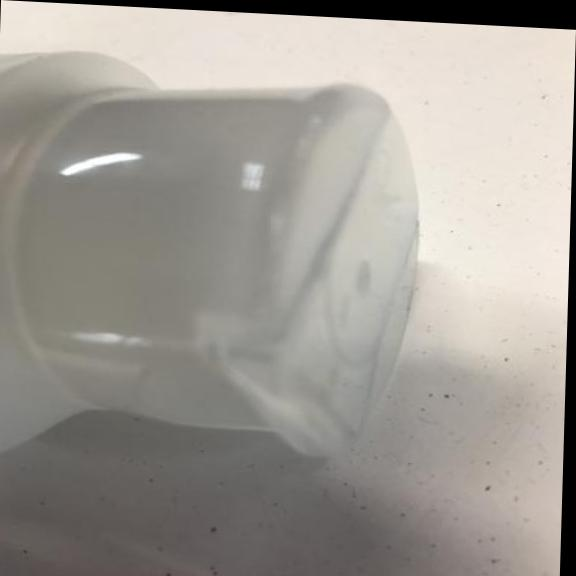Plastik: (0, 36, 431, 480)
